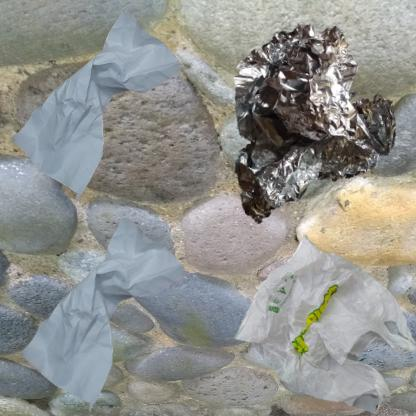aluminio: (213, 10, 414, 233)
bolsa: (213, 213, 416, 416)
papel: (10, 213, 197, 416), (10, 10, 182, 203)
